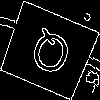Q: (23, 25, 76, 86)
